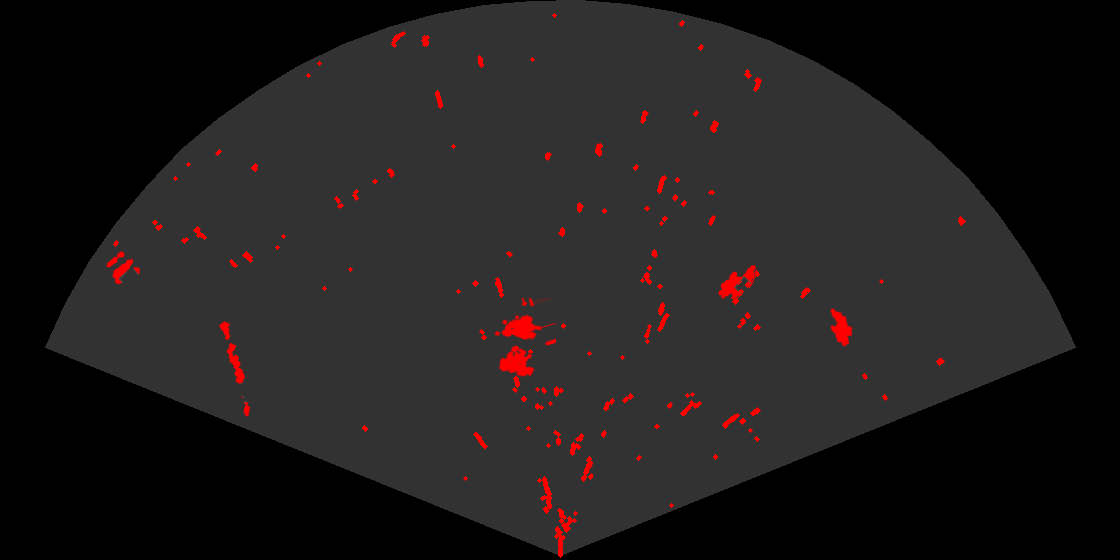AUV: (717, 264, 757, 300), (829, 307, 854, 348)
ball: (105, 250, 142, 286)
cage: (493, 298, 556, 379)
chain: (218, 319, 252, 418)
